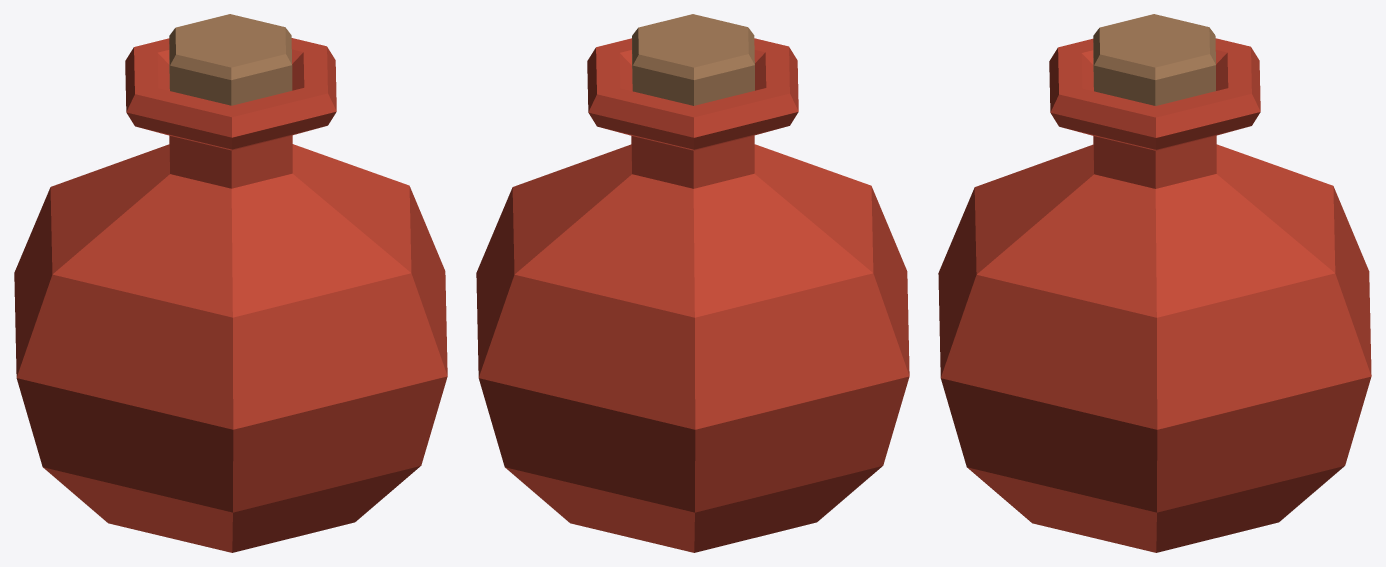
File: Red_Potion_9.fbx
3 renders of one model, left to right at view 1: azimuth 30°, elevation 25°; view 2: azimuth 150°, elevation 25°; view 3: azimuth 270°, elevation 25°, orthographic.
Visible parts, largest first — view 1: Red_Potion_9; view 2: Red_Potion_9; view 3: Red_Potion_9.
Boxes of the visible parts, <box> form: Red_Potion_9: <box>14,14,447,552</box>; Red_Potion_9: <box>476,14,909,552</box>; Red_Potion_9: <box>938,14,1371,552</box>.
Size of the model in its own units: 20.73 by 20.77 by 18.05.
